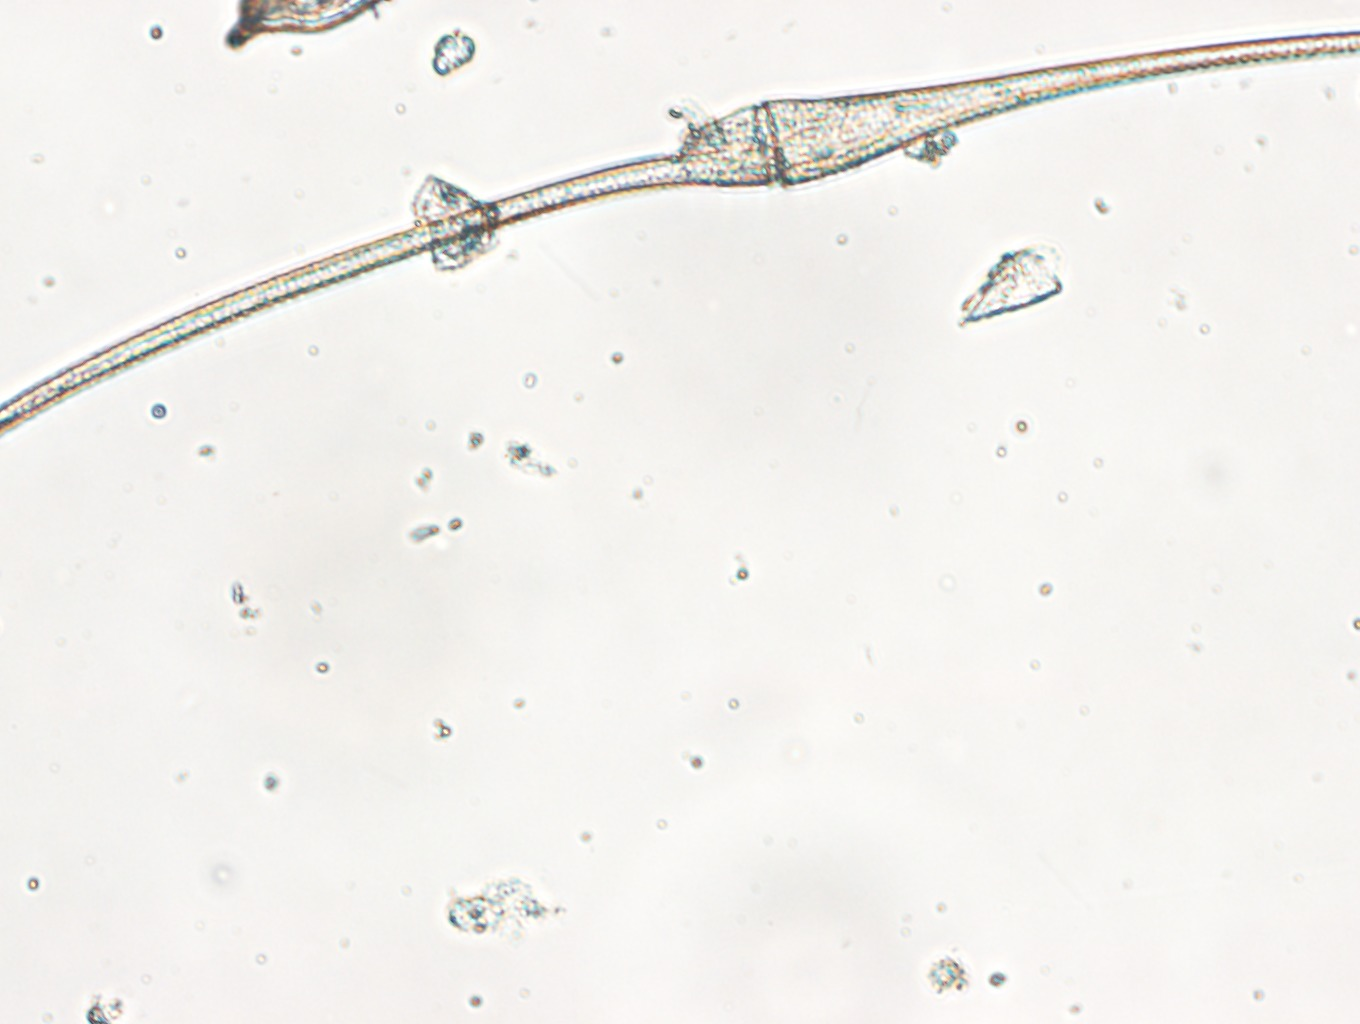ceratium fusus: (1, 27, 1357, 443)
